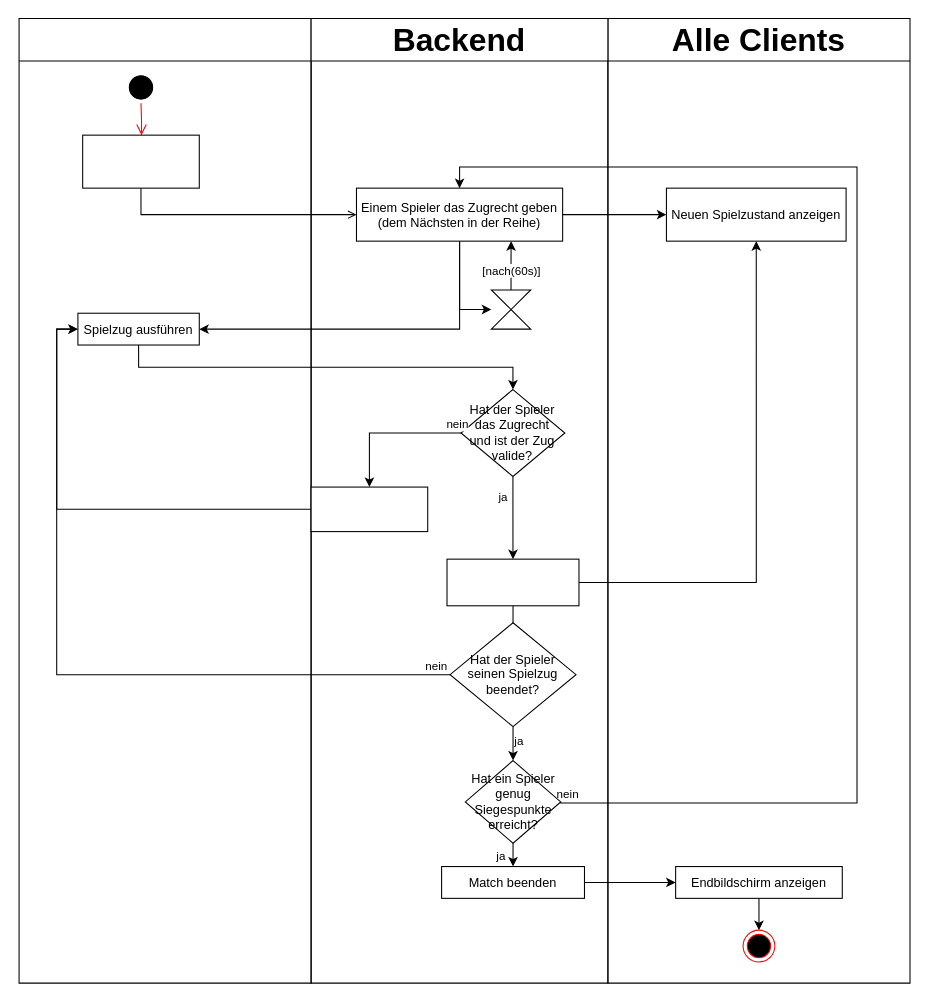
This 929x1002 diagram has some shape labels left out. The box of each missing label's shape, as (x1, y1, x2, y2) in pixels:
Fehlernachricht zurücksenden: (310, 486, 428, 532)
Match starten: (82, 134, 199, 188)
Spieler: (18, 17, 311, 983)
Spielzug umsetzen und Spielmechaniken anwenden: (446, 558, 579, 606)
Timer starten: (490, 289, 531, 329)
